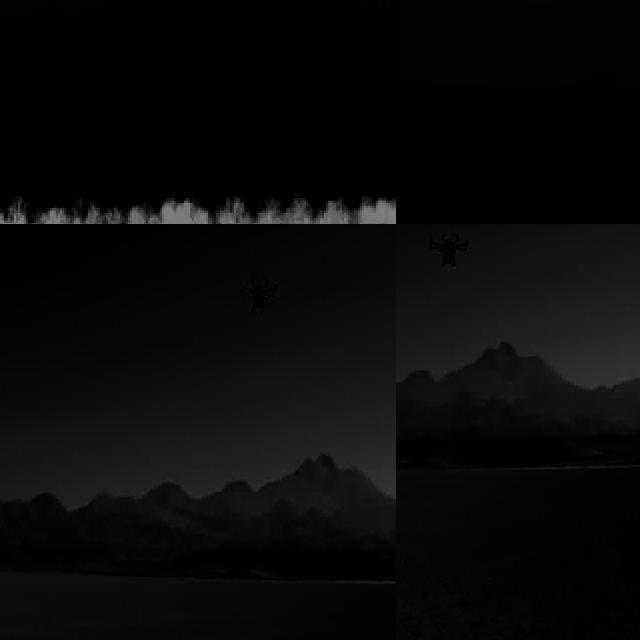drone: (238, 269, 282, 321), (428, 226, 470, 278)
